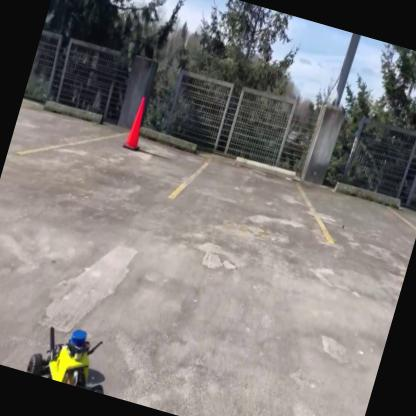cone: (120, 92, 154, 154)
mushr_car: (22, 310, 123, 394)
